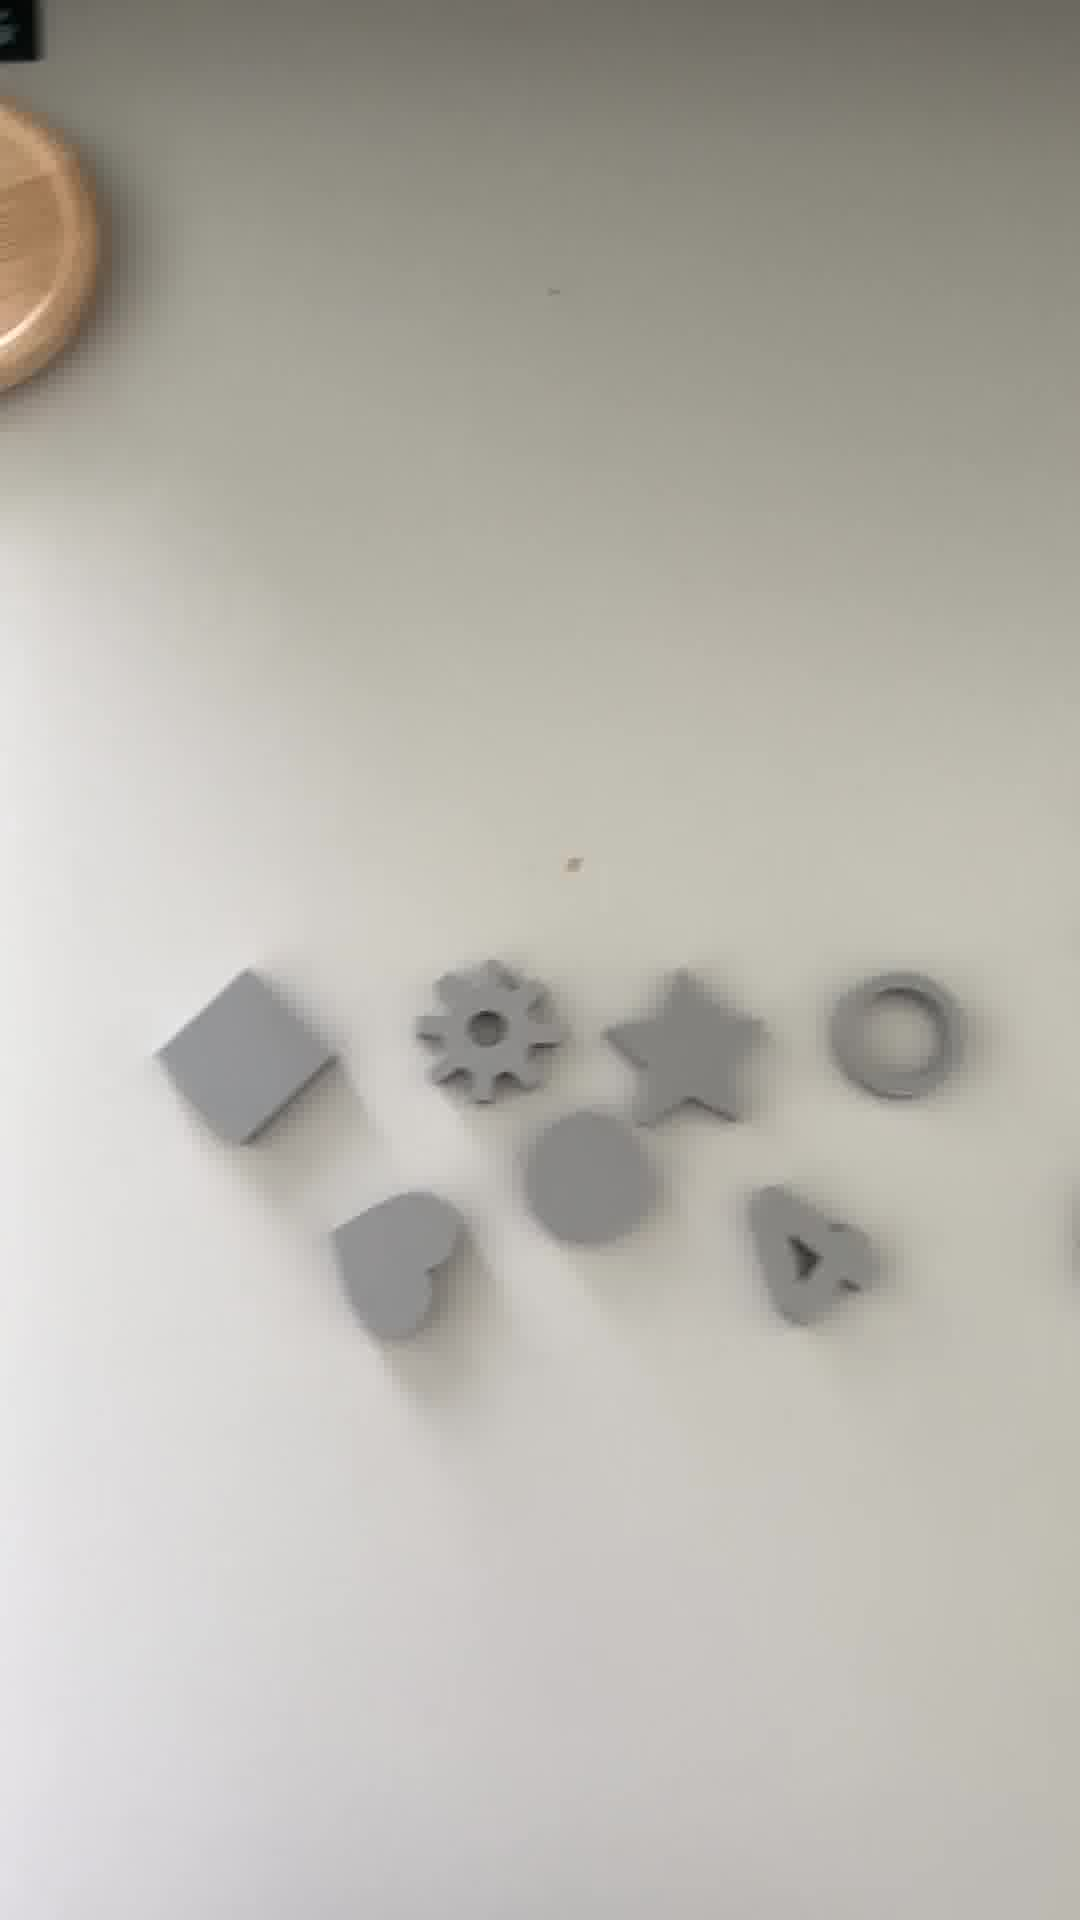Gray circle: (529, 1110, 658, 1250)
Gray four: (735, 1183, 887, 1335)
Gray gear: (419, 959, 560, 1104)
Gray heart: (323, 1183, 473, 1357)
Gray ring: (822, 971, 971, 1106)
Gray square: (152, 955, 338, 1156)
Gray star: (607, 957, 767, 1141)
